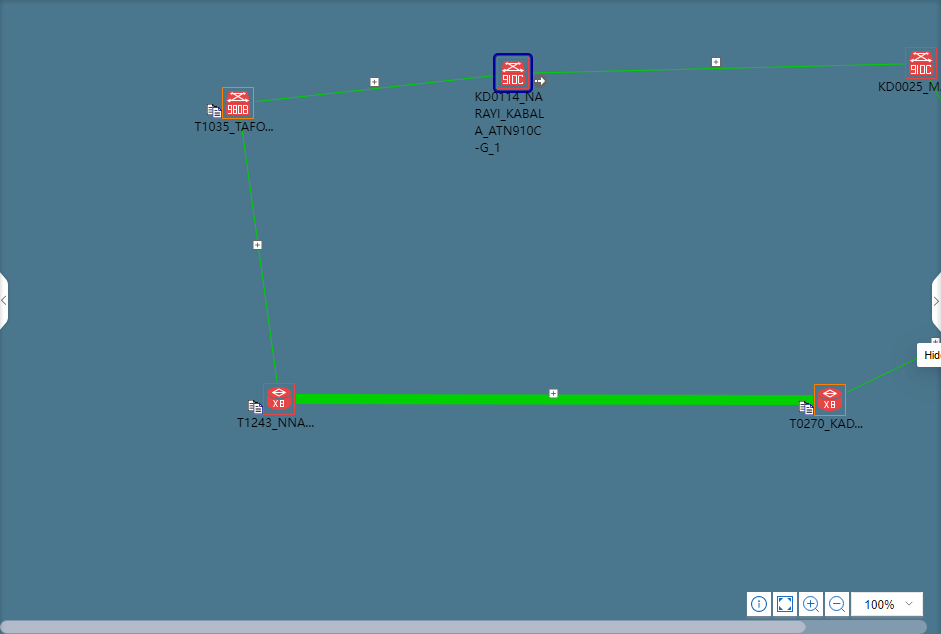ATN_Red: (905, 47, 936, 76), (225, 88, 252, 119), (500, 61, 526, 87)
Link_Green: (238, 120, 279, 382), (255, 73, 492, 103), (296, 394, 814, 405), (534, 63, 903, 74), (848, 357, 917, 393)
Router_Red: (265, 385, 293, 414), (815, 387, 843, 414)
